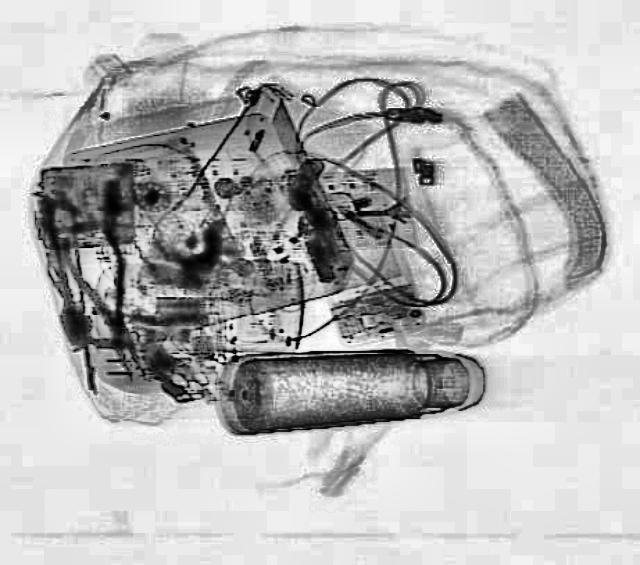Pliers: (43, 179, 173, 386)
